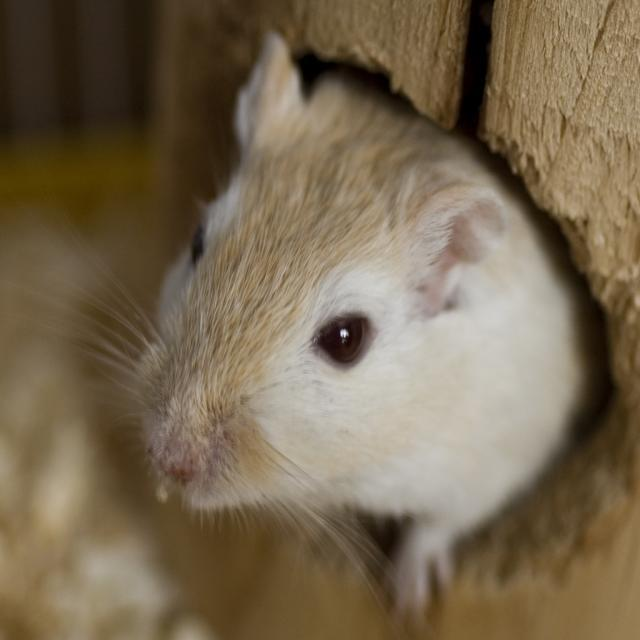rat: (14, 31, 598, 626)
